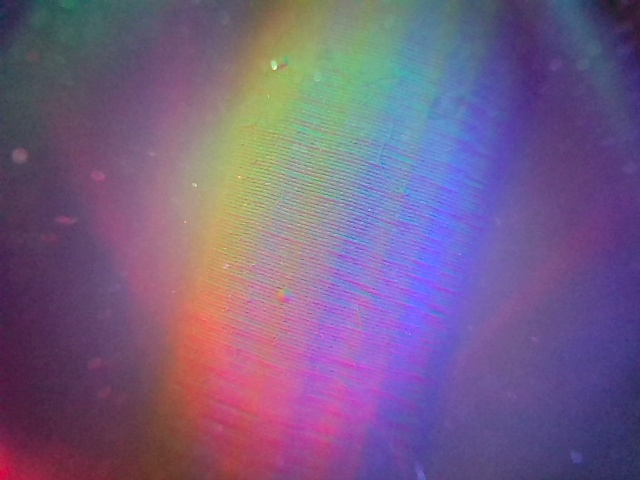contact: (149, 2, 560, 477)
